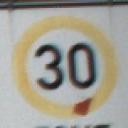speed_limit_30: (10, 15, 120, 119)
